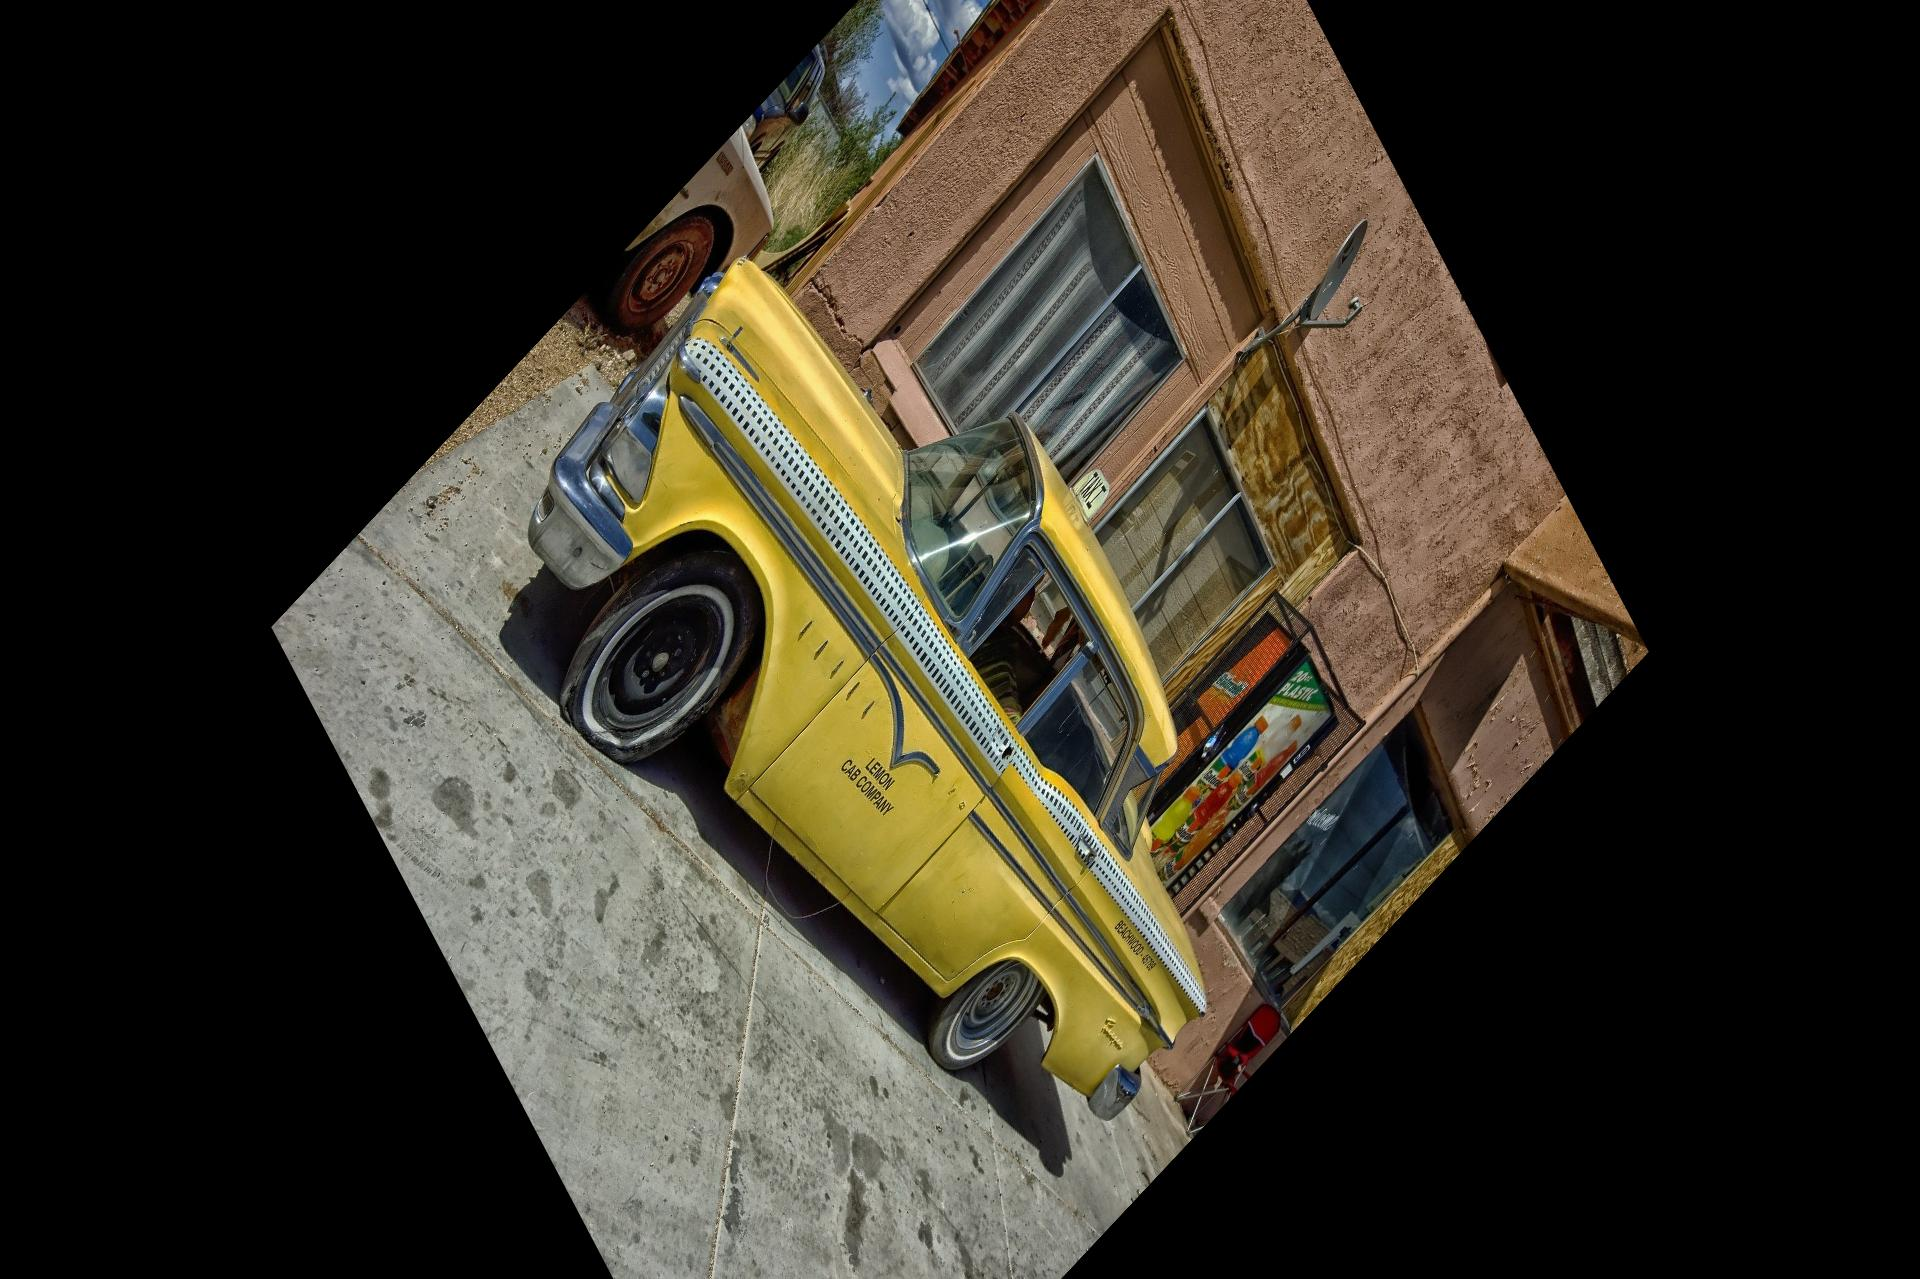taxi: (520, 223, 1248, 1113)
